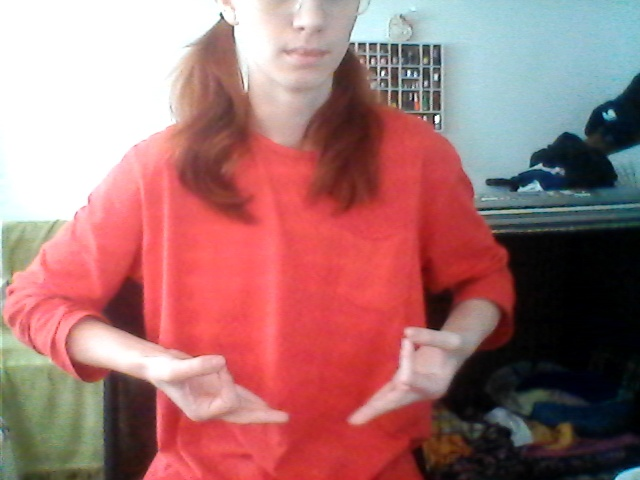preco: (153, 316, 472, 432)
